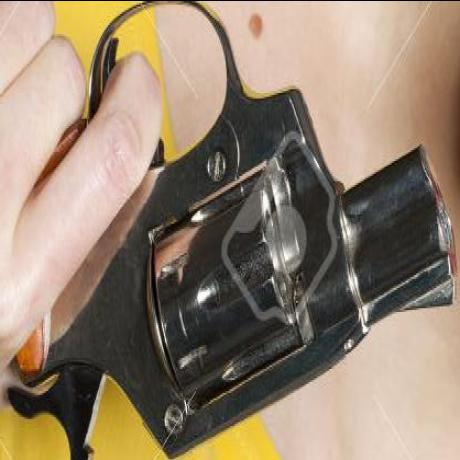weapon: (79, 1, 460, 453)
